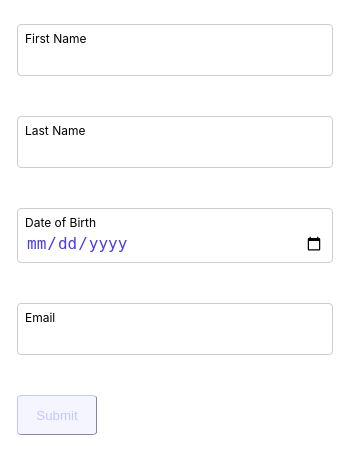
Test case: Sign Up Form › is invalid with the first and last name fields provided
Click the field labelled "First Name".
click(175, 50)  # box 17,24 -> 333,76
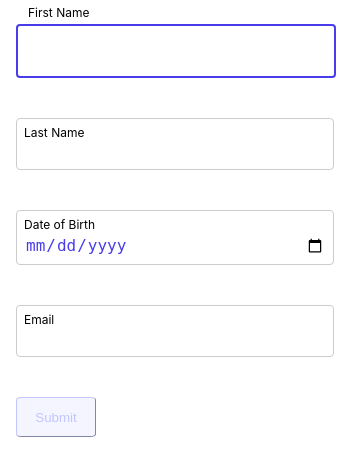
Type keys "Jenny"
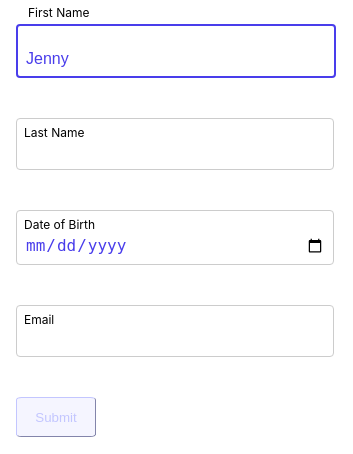
expect the field labelled "First Name" holds "Jenny": met, box 16,24 -> 336,78
Click the field labelled "Last Name".
click(175, 144)  # box 16,118 -> 334,170
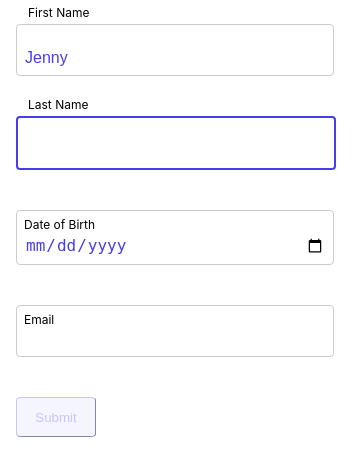
Type keys "Clay"
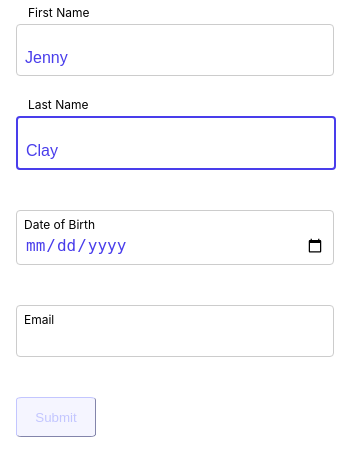
expect the field labelled "Last Name" holds "Clay": met, box 16,116 -> 336,170
